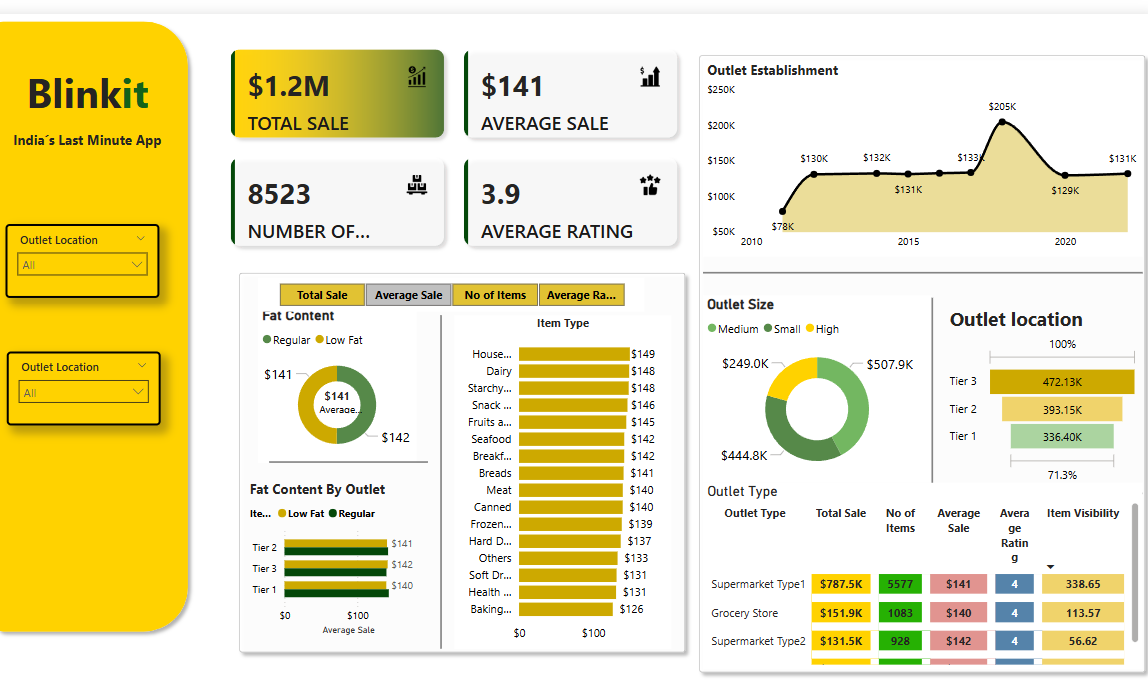

Layout of this report page (visuals, bound fields, positions):
{"tool":"powerbi","page":{"name":"Page 1","canvas":[1400,800],"ordinal":0},"visuals":[{"type":"shape","box":[0,0,249.1,750.4],"z":0},{"type":"textbox","box":[10.5,55.5,217.6,79.5],"z":1000},{"type":"textbox","box":[10.5,135.1,217.6,79.5],"z":2000},{"type":"cardVisual","fields":{"Data":["BlinkIT Grocery Data.Total Sale","BlinkIT Grocery Data.Average Sale","BlinkIT Grocery Data.No of Items","BlinkIT Grocery Data.Average Rating"]},"box":[274.7,25.5,570.3,270.2],"z":3000},{"type":"shape","box":[292.7,301.7,553.8,474.3],"z":4000},{"type":"donutChart","title":"Fat Content","fields":{"Y":["BlinkIT Grocery Data.Average Sale"],"Category":["BlinkIT Grocery Data.Item Fat Content"]},"box":[324.2,351.2,190.6,187.6],"z":5000},{"type":"slicer","fields":{"Values":["Matrix.Matrix"]},"box":[324.2,316.7,463.8,40.5],"z":6000},{"type":"cardVisual","fields":{"Data":["BlinkIT Grocery Data.Average Sale"]},"box":[370.7,432.2,97.6,52.5],"z":7000},{"type":"clusteredBarChart","title":"Fat Content By Outlet","fields":{"Y":["BlinkIT Grocery Data.Average Sale"],"Category":["BlinkIT Grocery Data.Outlet Location Type"],"Series":["BlinkIT Grocery Data.Item Fat Content"]},"box":[309.2,558.3,219.1,192.1],"z":8000},{"type":"shape","box":[337.7,444.3,190.6,187.6],"z":9000},{"type":"shape","box":[448.8,361.7,190.6,400.7],"z":10000},{"type":"barChart","title":"Item Type","fields":{"Y":["BlinkIT Grocery Data.Average Sale"],"Category":["BlinkIT Grocery Data.Item Type"]},"box":[559.8,361.7,261.2,400.7],"z":11000},{"type":"shape","box":[845,40.5,553.8,759.4],"z":12000},{"type":"lineChart","title":"Outlet Establishment","fields":{"Category":["BlinkIT Grocery Data.Outlet Establishment Year"],"Y":["BlinkIT Grocery Data.Total Sale"]},"box":[858.5,55.5,528.3,235.6],"z":13000},{"type":"shape","box":[858.5,229.6,528.3,162.1],"z":14000},{"type":"donutChart","title":"Outlet Size","fields":{"Y":["BlinkIT Grocery Data.Total Sale"],"Category":["BlinkIT Grocery Data.Outlet Size"]},"box":[858.5,337.7,274.7,225.1],"z":15000},{"type":"shape","box":[1038.6,340.7,190.6,229.6],"z":16000},{"type":"funnel","title":"Outlet location","fields":{"Y":["Sum(BlinkIT Grocery Data.Sales)"],"Category":["BlinkIT Grocery Data.Outlet Location Type"]},"box":[1149.7,349.7,237.1,219.1],"z":17000},{"type":"shape","box":[873.5,481.8,513.3,187.6],"z":18000},{"type":"pivotTable","title":"Outlet Type","fields":{"Rows":["BlinkIT Grocery Data.Outlet Type"],"Values":["BlinkIT Grocery Data.Total Sale","BlinkIT Grocery Data.No of Items","BlinkIT Grocery Data.Average Sale","BlinkIT Grocery Data.Average Rating","Sum(BlinkIT Grocery Data.Item Visibility)"]},"box":[858.5,562.8,528.3,223.6],"z":19000},{"type":"slicer","fields":{"Values":["BlinkIT Grocery Data.Outlet Location Type"]},"box":[21,252.1,184.6,88.6],"z":19001},{"type":"slicer","fields":{"Values":["BlinkIT Grocery Data.Item Type"]},"box":[22.5,405.2,184.6,88.6],"z":19002}]}

Visuals, with their boxes on the page's 1400x800 design canvas (x1, y1, x2, y2). These are canvas units, not pixel positions in the 1148x680 screenshot, which may show the page scaled, cropped or inside an application window:
shape: [0,0,249,750]
textbox: [10,56,228,135]
textbox: [10,135,228,215]
cardVisual - BlinkIT Grocery Data.Total Sale x BlinkIT Grocery Data.Average Sale: [275,26,845,296]
shape: [293,302,846,776]
"Fat Content" donutChart: [324,351,515,539]
slicer - Matrix.Matrix: [324,317,788,357]
cardVisual - BlinkIT Grocery Data.Average Sale: [371,432,468,485]
"Fat Content By Outlet" clusteredBarChart: [309,558,528,750]
shape: [338,444,528,632]
shape: [449,362,639,762]
"Item Type" barChart: [560,362,821,762]
shape: [845,40,1399,800]
"Outlet Establishment" lineChart: [858,56,1387,291]
shape: [858,230,1387,392]
"Outlet Size" donutChart: [858,338,1133,563]
shape: [1039,341,1229,570]
"Outlet location" funnel: [1150,350,1387,569]
shape: [874,482,1387,669]
"Outlet Type" pivotTable: [858,563,1387,786]
slicer - BlinkIT Grocery Data.Outlet Location Type: [21,252,206,341]
slicer - BlinkIT Grocery Data.Item Type: [22,405,207,494]
